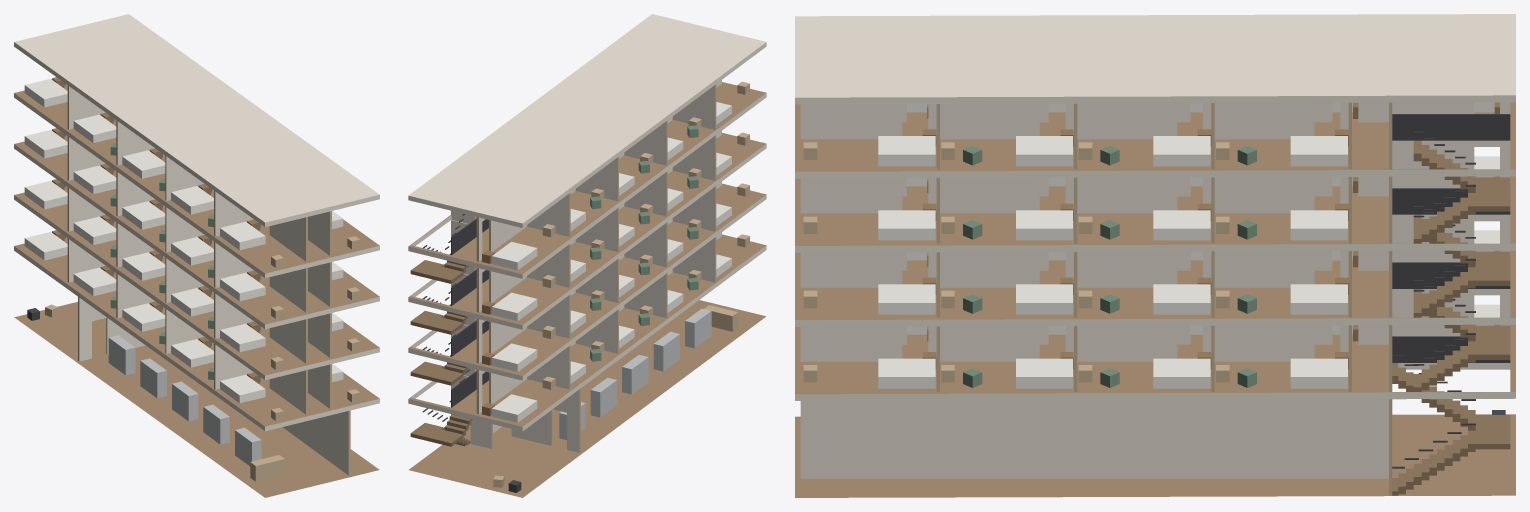
File: interior.glb
3 views of the same model, side by side, from view 1: azimuth 30°, elevation 25°; view 2: azimuth 150°, elevation 25°; view 3: azimuth 270°, elevation 25° (orthographic). The views are drawn at different scales.
Parts seen in each view (by area): view 1: slabs, partitions, coarse-s3, coarse-s4, coarse-s2, coarse-s1, coarse-s0; view 2: slabs, partitions, stair, coarse-s0, coarse-s2, coarse-s1, coarse-s3, coarse-s4; view 3: slabs, partitions, stair, coarse-s2, coarse-s3, coarse-s1, coarse-s4.
Boxes of the visible parts, x1,y1,x2,y2 form: slabs: (14, 14, 379, 497); partitions: (64, 83, 350, 475); coarse-s3: (24, 128, 359, 318); coarse-s4: (24, 77, 359, 267); coarse-s2: (24, 179, 359, 369); coarse-s1: (24, 230, 359, 420); coarse-s0: (27, 304, 284, 481); slabs: (408, 14, 766, 497); partitions: (451, 80, 721, 452); stair: (410, 214, 488, 446); coarse-s0: (493, 305, 738, 492); coarse-s2: (482, 183, 749, 371); coarse-s1: (482, 234, 749, 422); coarse-s3: (482, 132, 749, 320); coarse-s4: (482, 81, 749, 270); slabs: (795, 14, 1515, 497); partitions: (800, 102, 1510, 495); stair: (1392, 114, 1510, 495); coarse-s2: (803, 230, 1499, 314); coarse-s3: (803, 156, 1499, 240); coarse-s1: (803, 304, 1499, 388); coarse-s4: (803, 102, 1499, 166).
Size of the model in its own units: 6.9 by 15.42 by 25.13.
